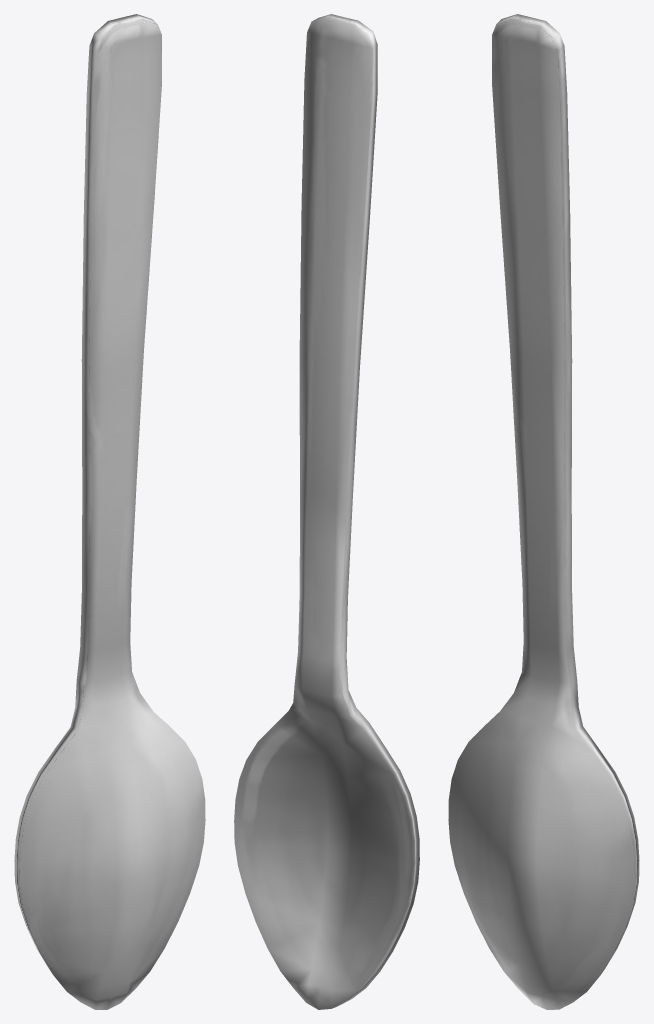
File: Cuchara Fin.FBX
3 renders of one model, left to right at view 1: azimuth 30°, elevation 25°; view 2: azimuth 150°, elevation 25°; view 3: azimuth 330°, elevation 25°, orthographic. The views are drawn at different scales.
Parts seen in each view (by area): view 1: Cuchara; view 2: Cuchara; view 3: Cuchara.
Part boxes in pixels (<box>): Cuchara: <box>14,14,205,1009</box>; Cuchara: <box>234,14,419,1009</box>; Cuchara: <box>448,14,639,1009</box>.
Size of the model in its own units: 4.44 by 22.83 by 1.32.
Materials: 1 (1 with a texture image).
